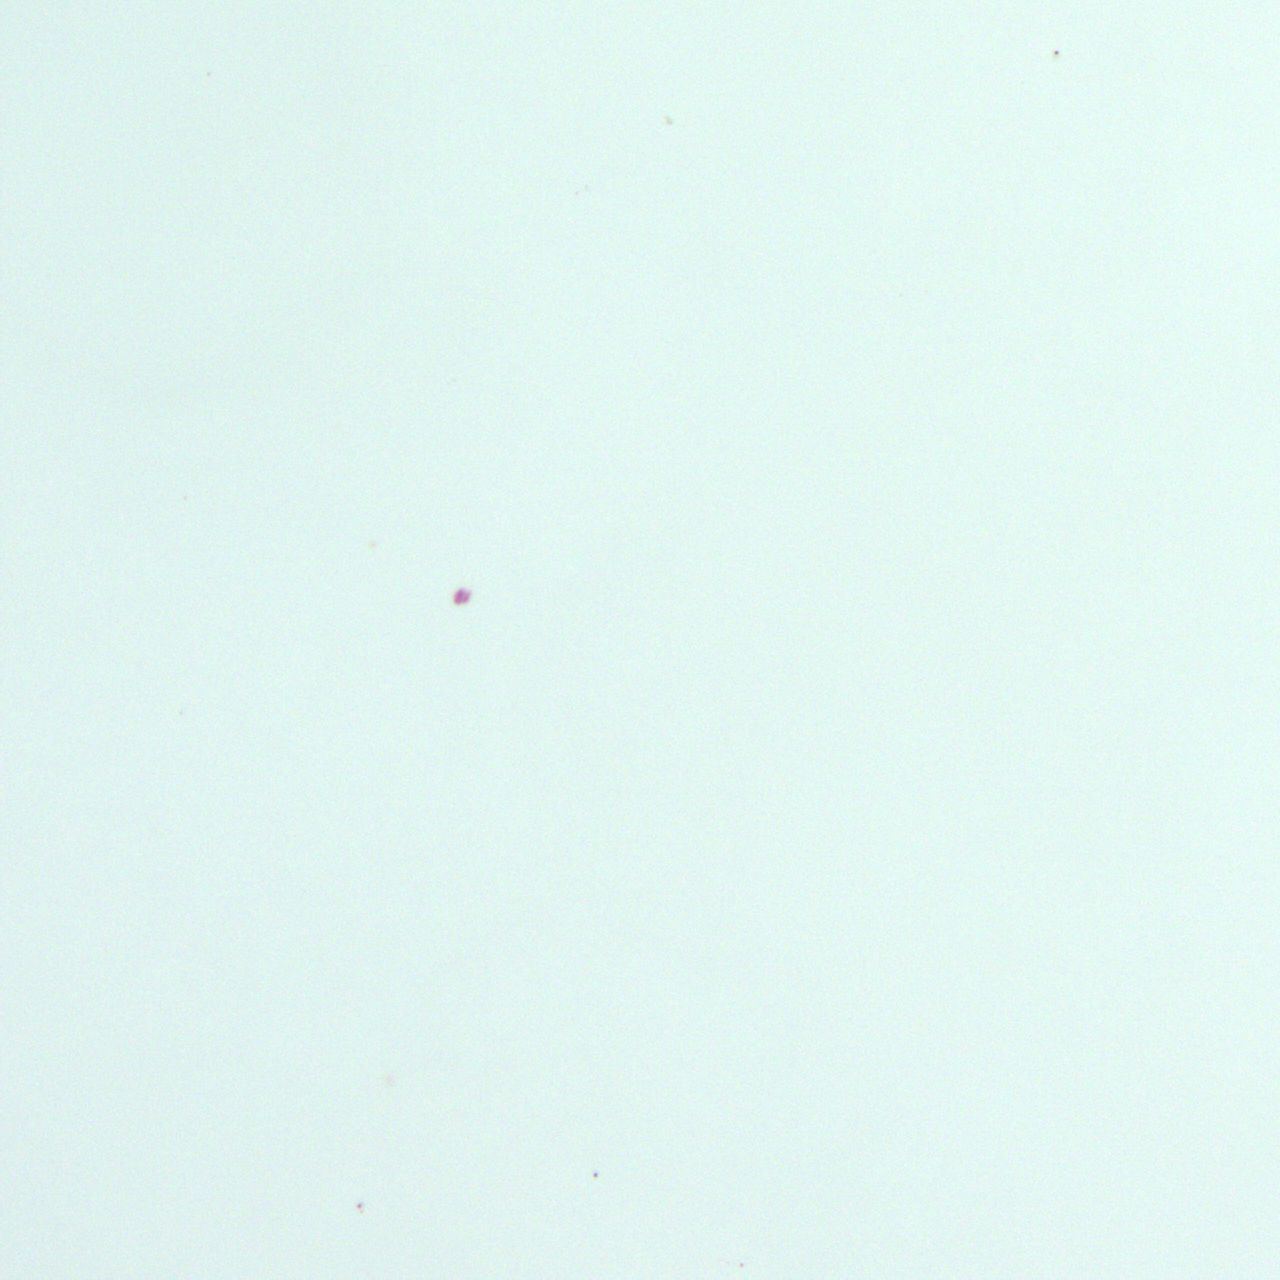dust: (1053, 50, 1058, 56)
nucleus-AC: (452, 588, 470, 604)
